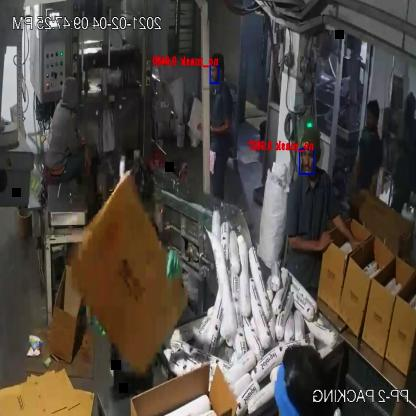glove: (161, 247, 183, 284)
no_glove: (286, 221, 340, 260), (333, 209, 372, 254), (346, 154, 366, 198), (79, 136, 96, 174), (207, 119, 234, 140)
